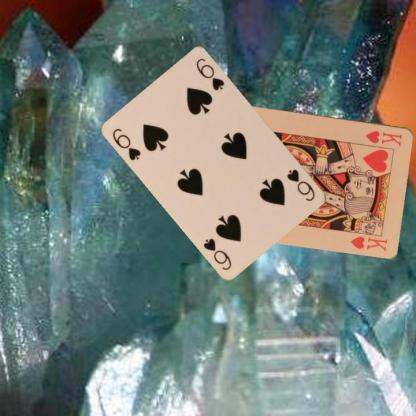6s: (284, 166, 317, 203), (110, 125, 142, 162)
Kh: (363, 127, 404, 147)
